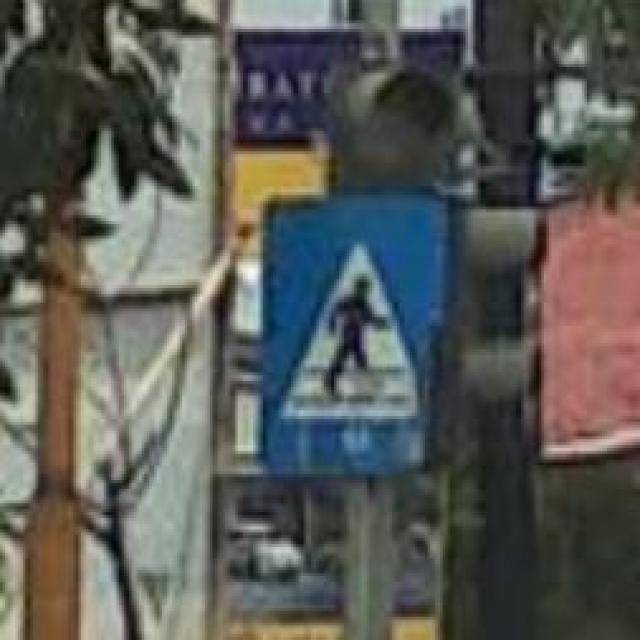traffic sign: (263, 195, 420, 477)
